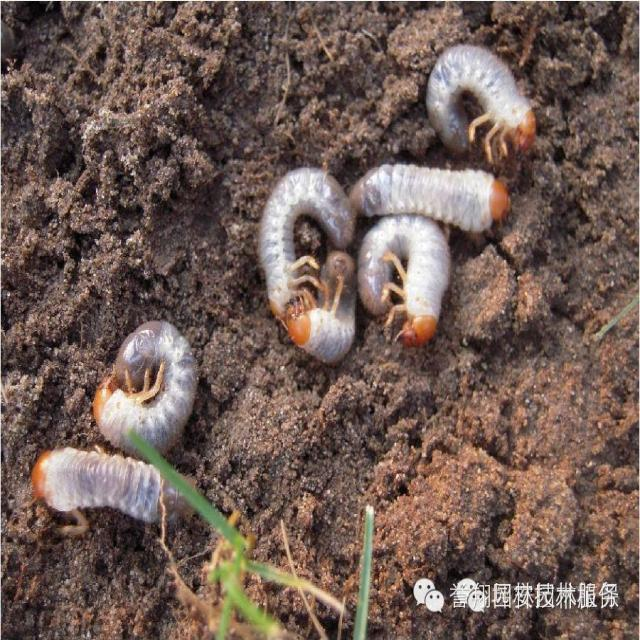grub: (248, 170, 371, 353), (34, 444, 218, 536), (422, 41, 548, 153), (97, 322, 199, 446), (349, 156, 511, 232), (354, 217, 447, 337)
